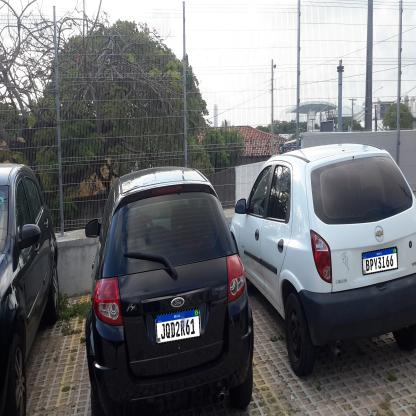PlacaM: (155, 307, 200, 345), (362, 246, 398, 276)
